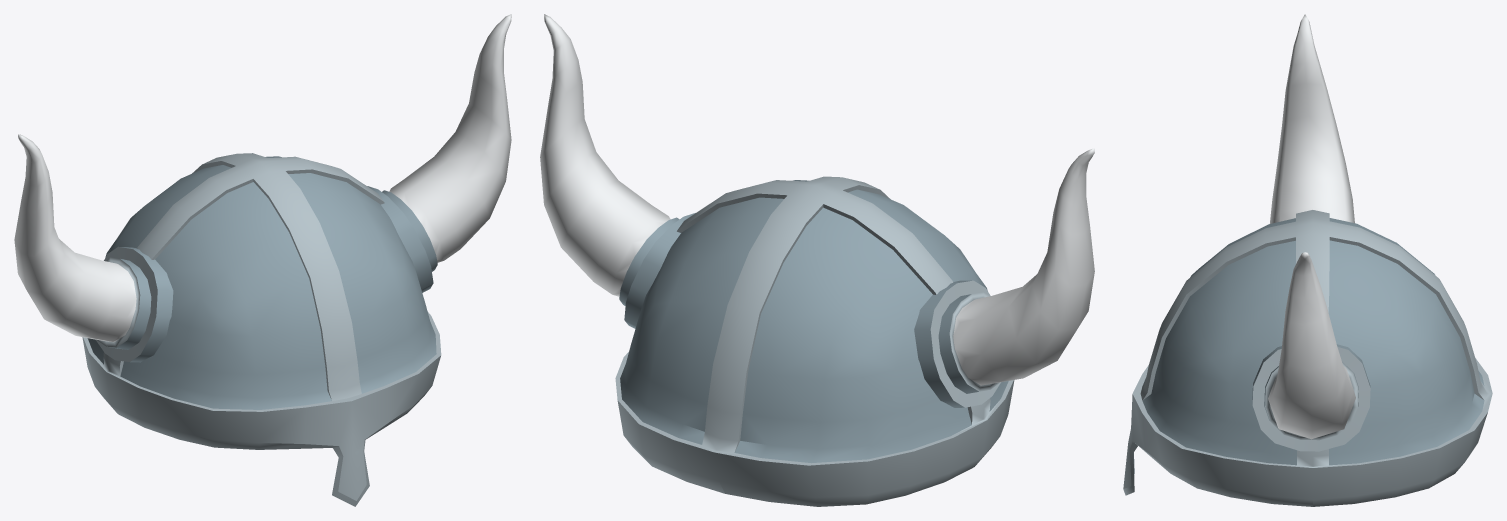
File: mu viking.fbx
3 views of the same model, side by side, from view 1: azimuth 30°, elevation 25°; view 2: azimuth 150°, elevation 25°; view 3: azimuth 270°, elevation 25° (orthographic). The views are drawn at different scales.
Parts seen in each view (by area): view 1: mu_viking; view 2: mu_viking; view 3: mu_viking.
Boxes of the visible parts, <box> form: mu_viking: <box>14,14,511,506</box>; mu_viking: <box>540,14,1094,506</box>; mu_viking: <box>1123,14,1492,506</box>.
Size of the model in its own units: 177 by 126 by 116.
